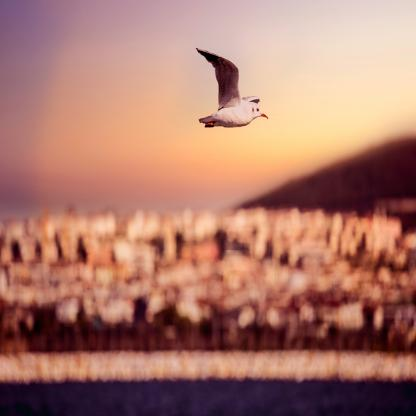bird: (196, 47, 268, 128)
